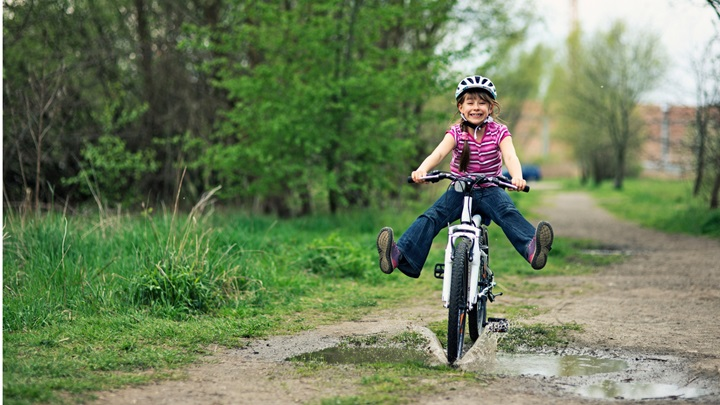helmet: (455, 75, 497, 124)
